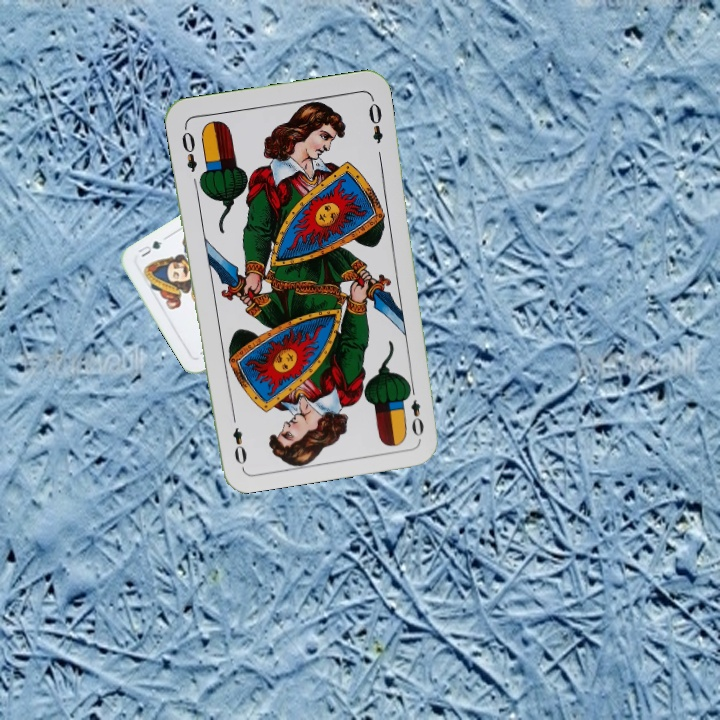EO: (402, 381, 427, 439), (177, 123, 200, 175)
